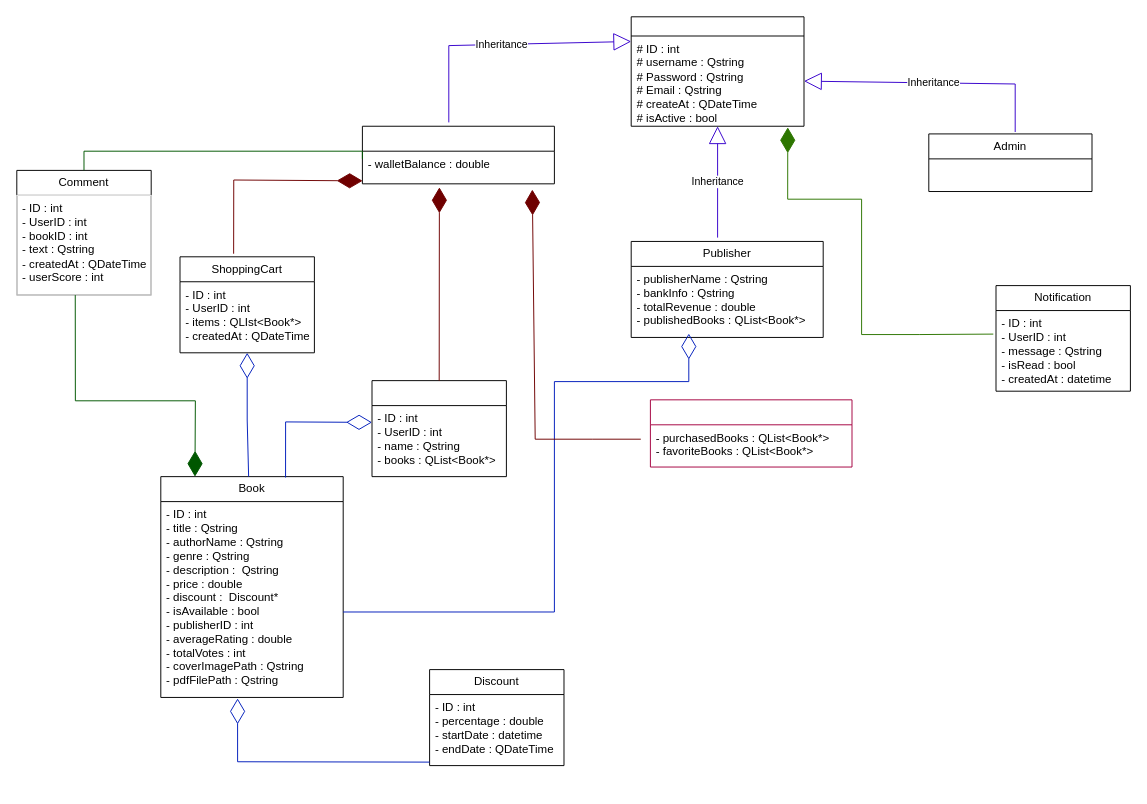
Some shapes in this 1147 by 804 pixel diagram are drawn without their labels. Each missing label, with the box of its shape:
Person (abstract): (630, 16, 804, 126)
PersonalLibrary: (649, 399, 852, 467)
Shelf: (371, 380, 506, 477)
User: (361, 125, 554, 184)
